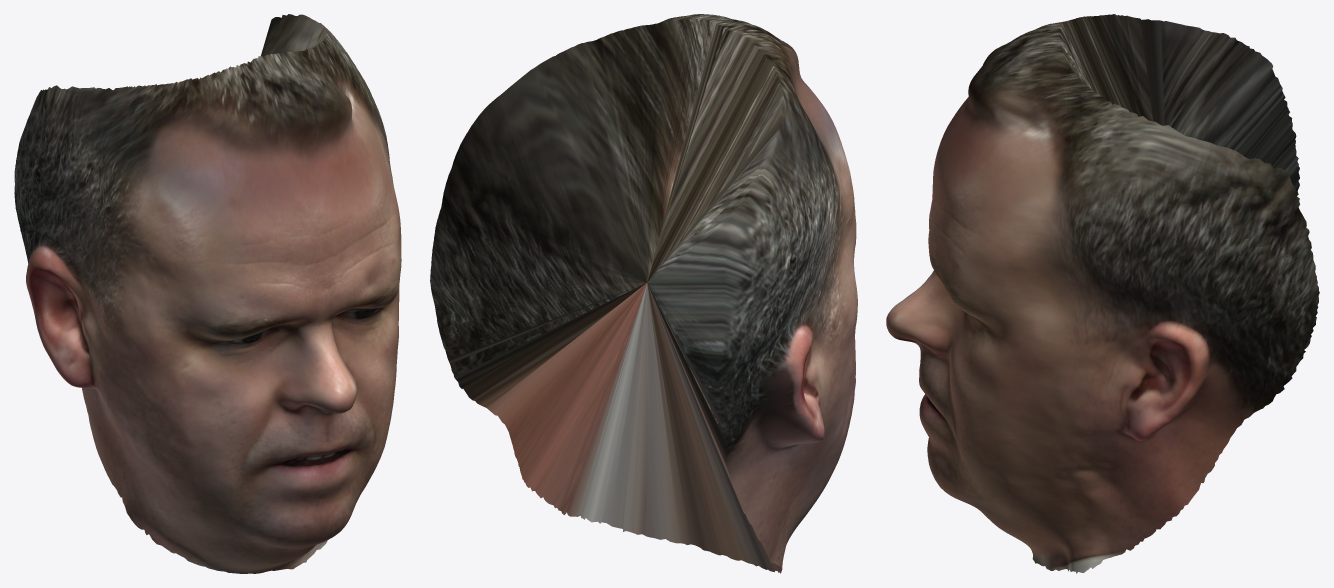
Rendered from Hilpert.fbx.
3 renders of one model, left to right at view 1: azimuth 30°, elevation 25°; view 2: azimuth 150°, elevation 25°; view 3: azimuth 270°, elevation 25°, orthographic. The views are drawn at different scales.
Parts seen in each view (by area): view 1: head3d:Mesh; view 2: head3d:Mesh; view 3: head3d:Mesh.
Boxes of the visible parts, x1,y1,x2,y2 form: head3d:Mesh: [14, 14, 401, 573]; head3d:Mesh: [430, 14, 857, 573]; head3d:Mesh: [886, 14, 1319, 573].
Bounding box in the file's own units: 189 × 283 × 216.
1 material, 1 textured.
